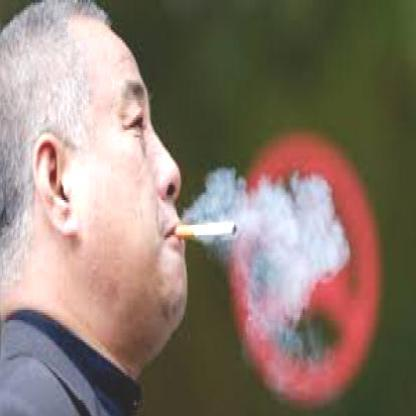cigarette: (174, 222, 238, 240)
smoke: (235, 170, 348, 358), (182, 161, 244, 223)
